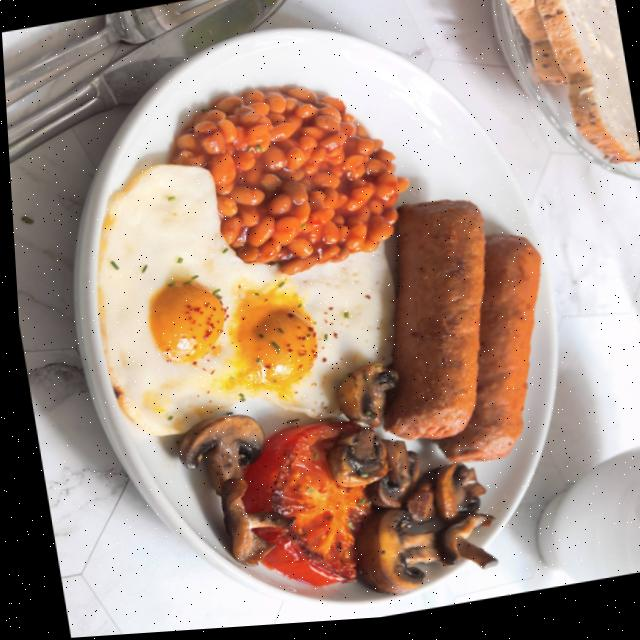Egg: (92, 166, 390, 438)
